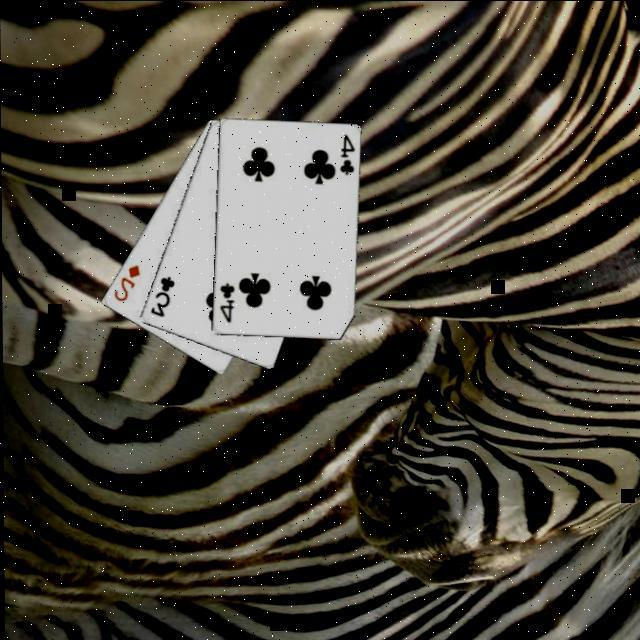2D: (112, 262, 144, 306)
3C: (148, 274, 178, 321)
4C: (338, 132, 359, 180), (218, 281, 239, 327)
